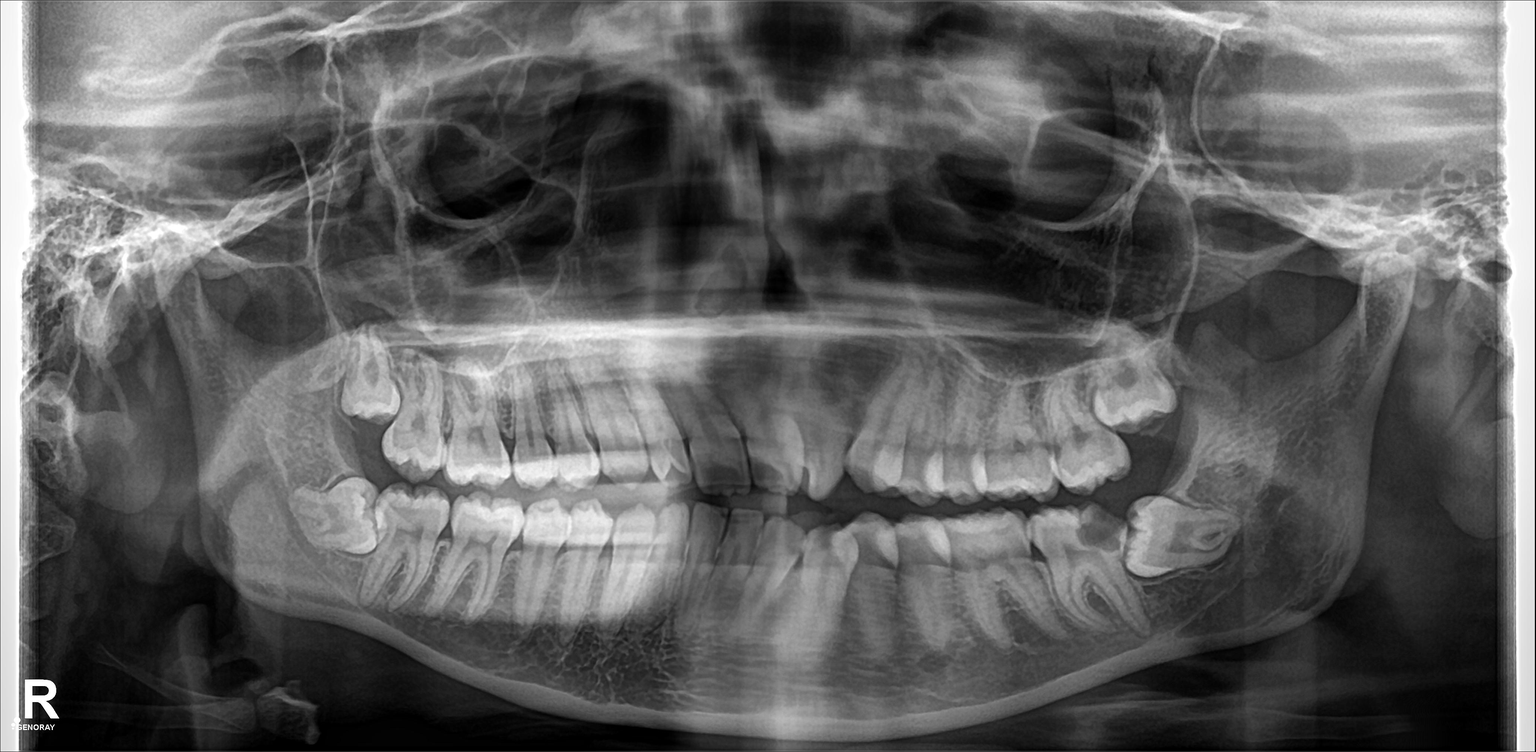Dental Caries: (750, 454, 785, 499), (702, 458, 740, 493)
Missing Tooth: (1125, 501, 1253, 579), (1095, 342, 1183, 426), (294, 486, 387, 563), (331, 342, 402, 410)
